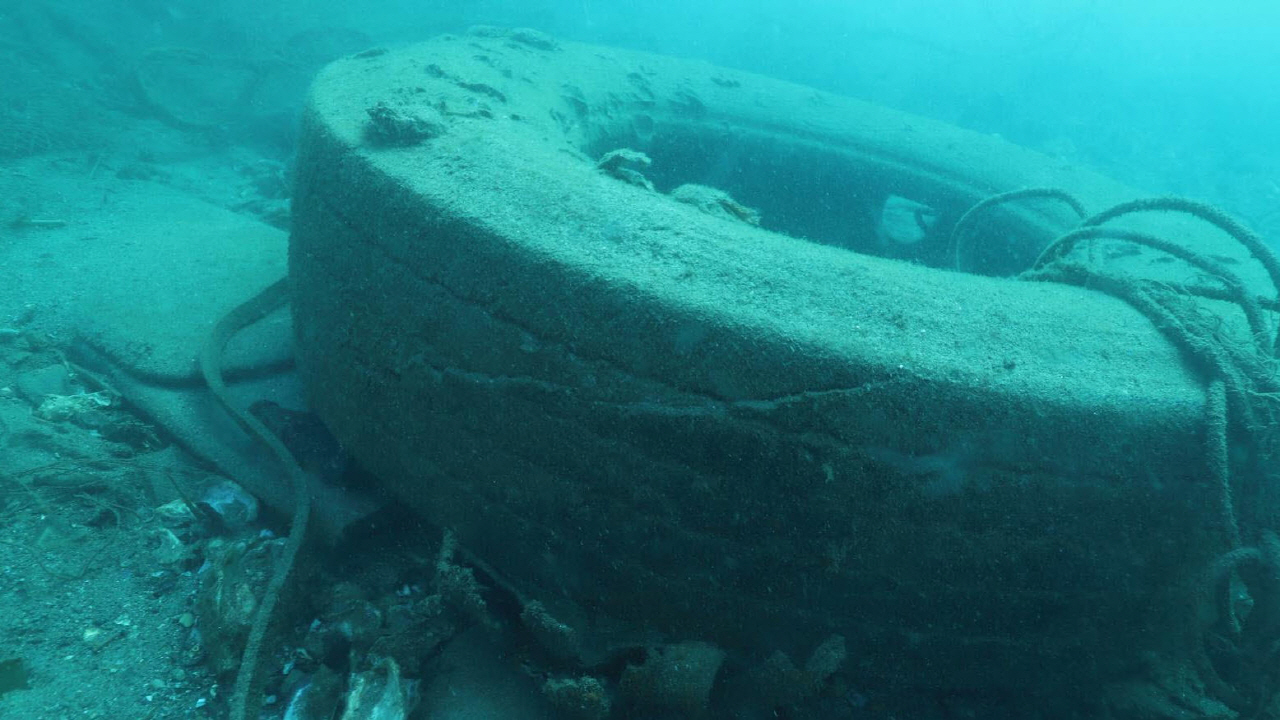bundle of ropes: (939, 183, 1280, 720)
tire: (289, 31, 1280, 695)
